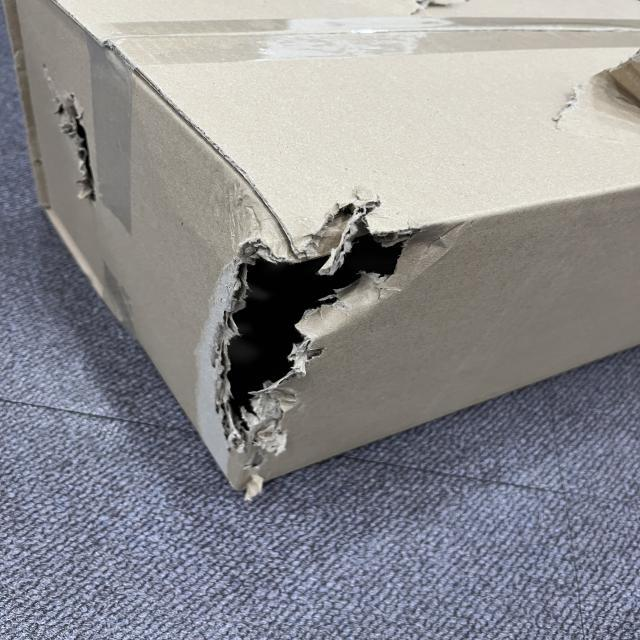hole: (198, 202, 440, 484), (39, 81, 116, 215)
